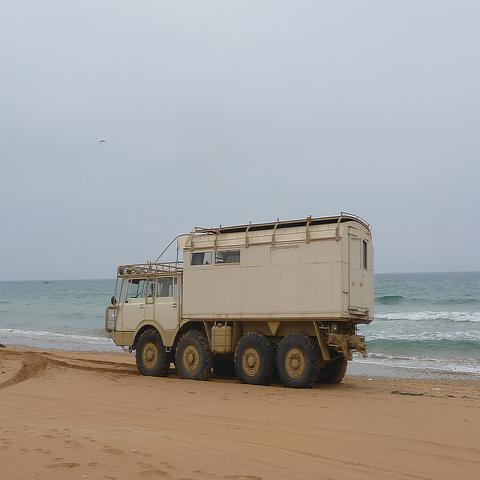truck: (105, 212, 375, 387)
